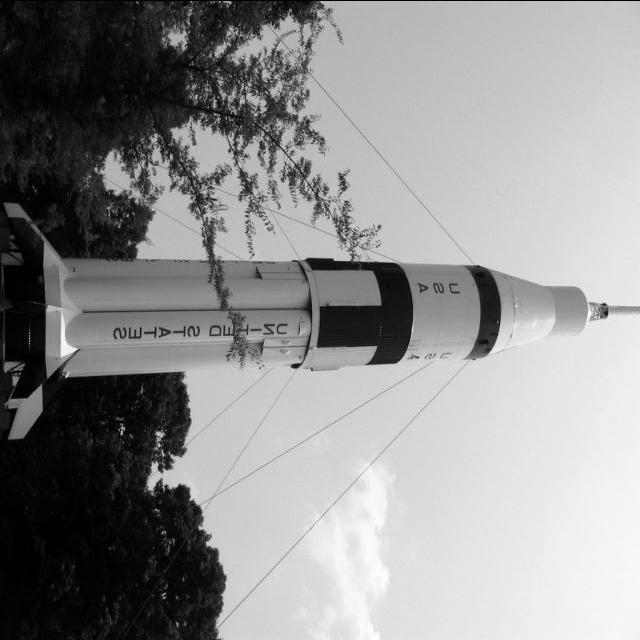missile: (15, 240, 640, 384), (53, 269, 329, 315)
